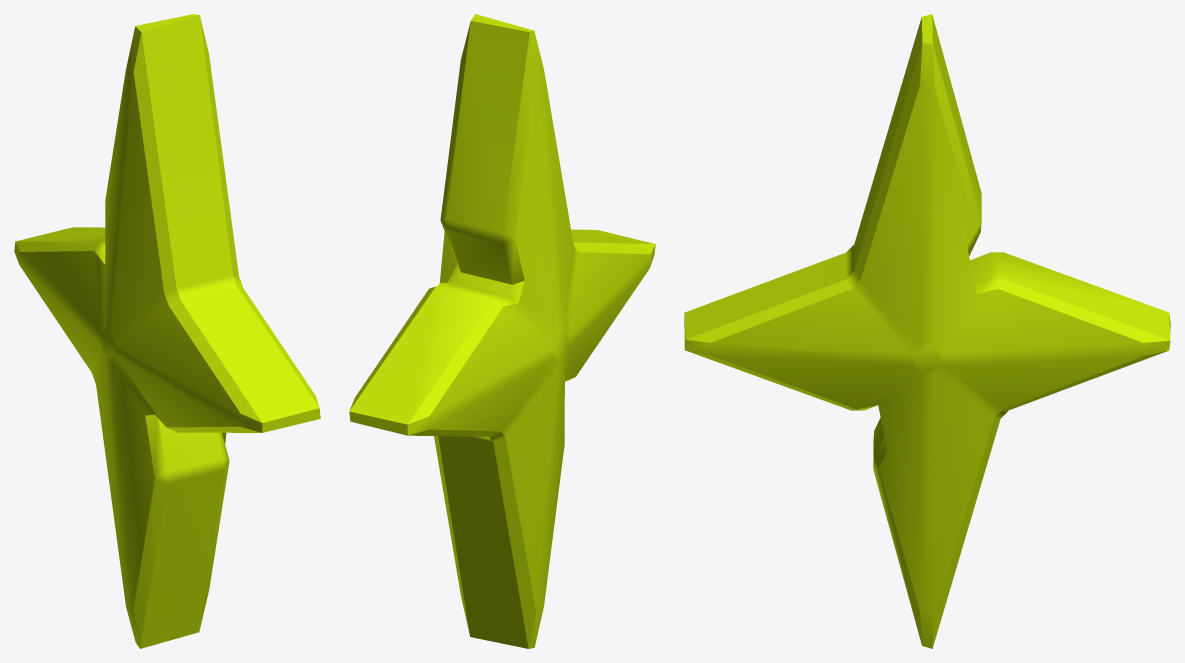
The model's file is theorycraft.glb.
3 renders of one model, left to right at view 1: azimuth 30°, elevation 25°; view 2: azimuth 150°, elevation 25°; view 3: azimuth 270°, elevation 25°, orthographic. The views are drawn at different scales.
Parts seen in each view (by area): view 1: pCylinder1; view 2: pCylinder1; view 3: pCylinder1.
Part boxes in pixels (x1=…): pCylinder1: x1=14, y1=14, x2=320, y2=648; pCylinder1: x1=349, y1=14, x2=655, y2=648; pCylinder1: x1=684, y1=14, x2=1170, y2=648.
Size of the model in its own units: 0.0553 by 0.2745 by 0.1993.
